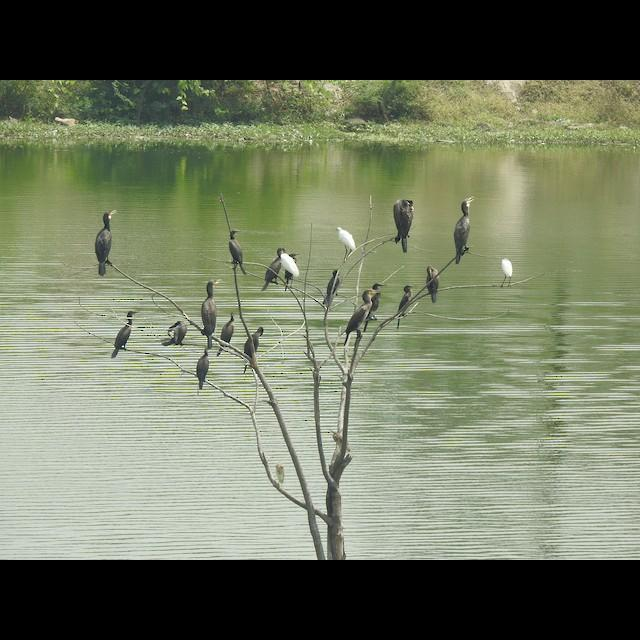cormorant: (342, 286, 380, 346), (94, 208, 120, 276), (452, 195, 476, 267), (200, 276, 222, 346), (110, 309, 140, 359), (226, 229, 248, 275), (423, 260, 442, 304)
egret: (336, 222, 358, 262), (499, 255, 515, 292)
